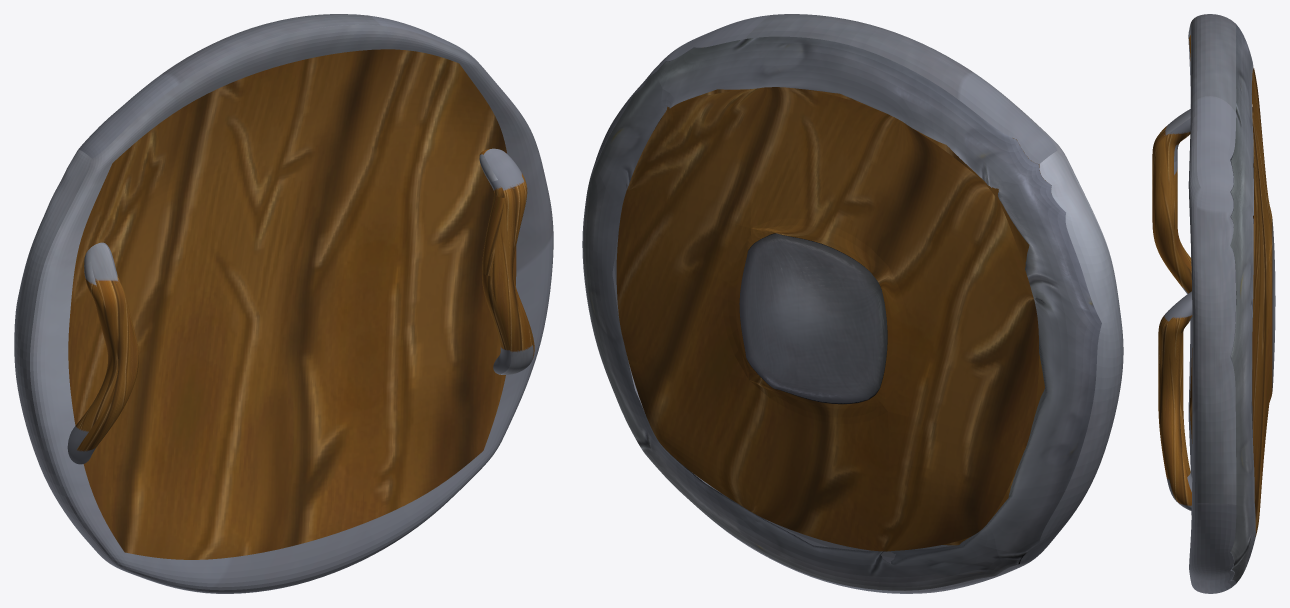
The model's file is Shield.fbx.
3 renders of one model, left to right at view 1: azimuth 30°, elevation 25°; view 2: azimuth 150°, elevation 25°; view 3: azimuth 270°, elevation 25°, orthographic. The views are drawn at different scales.
Visible parts, largest first — view 1: Shield, Cabble; view 2: Shield; view 3: Shield, Cabble.
Part boxes in pixels (bbox=[...]): Shield: bbox=[14, 14, 553, 593]; Cabble: bbox=[67, 148, 534, 464]; Shield: bbox=[582, 14, 1123, 593]; Shield: bbox=[1188, 14, 1275, 593]; Cabble: bbox=[1152, 109, 1192, 510].
Bounding box in the file's own units: 3.94 × 3.97 × 0.8495.
